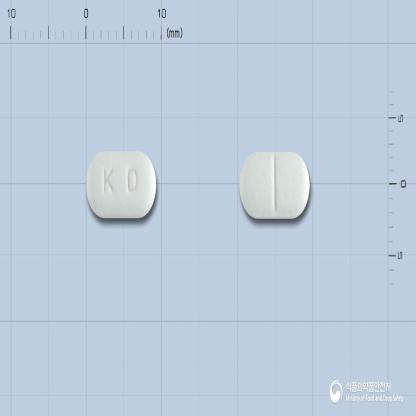pill: (83, 148, 158, 220), (238, 150, 311, 221)
